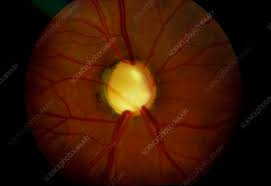Glaucoma section-1: (115, 71, 144, 100)
Glaucoma section-2: (103, 60, 158, 115)
